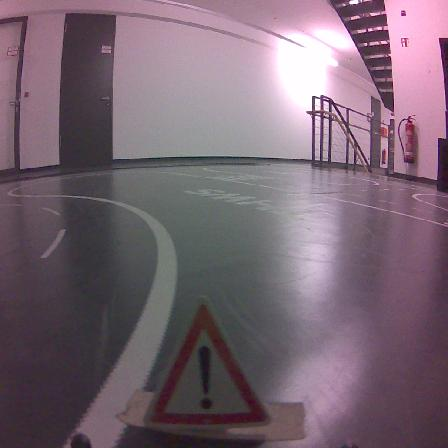ATTENTION: (145, 304, 268, 428)
